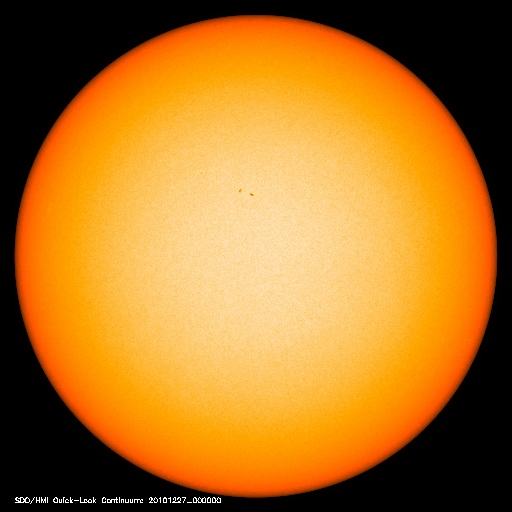sunspot: (224, 178, 262, 203)
